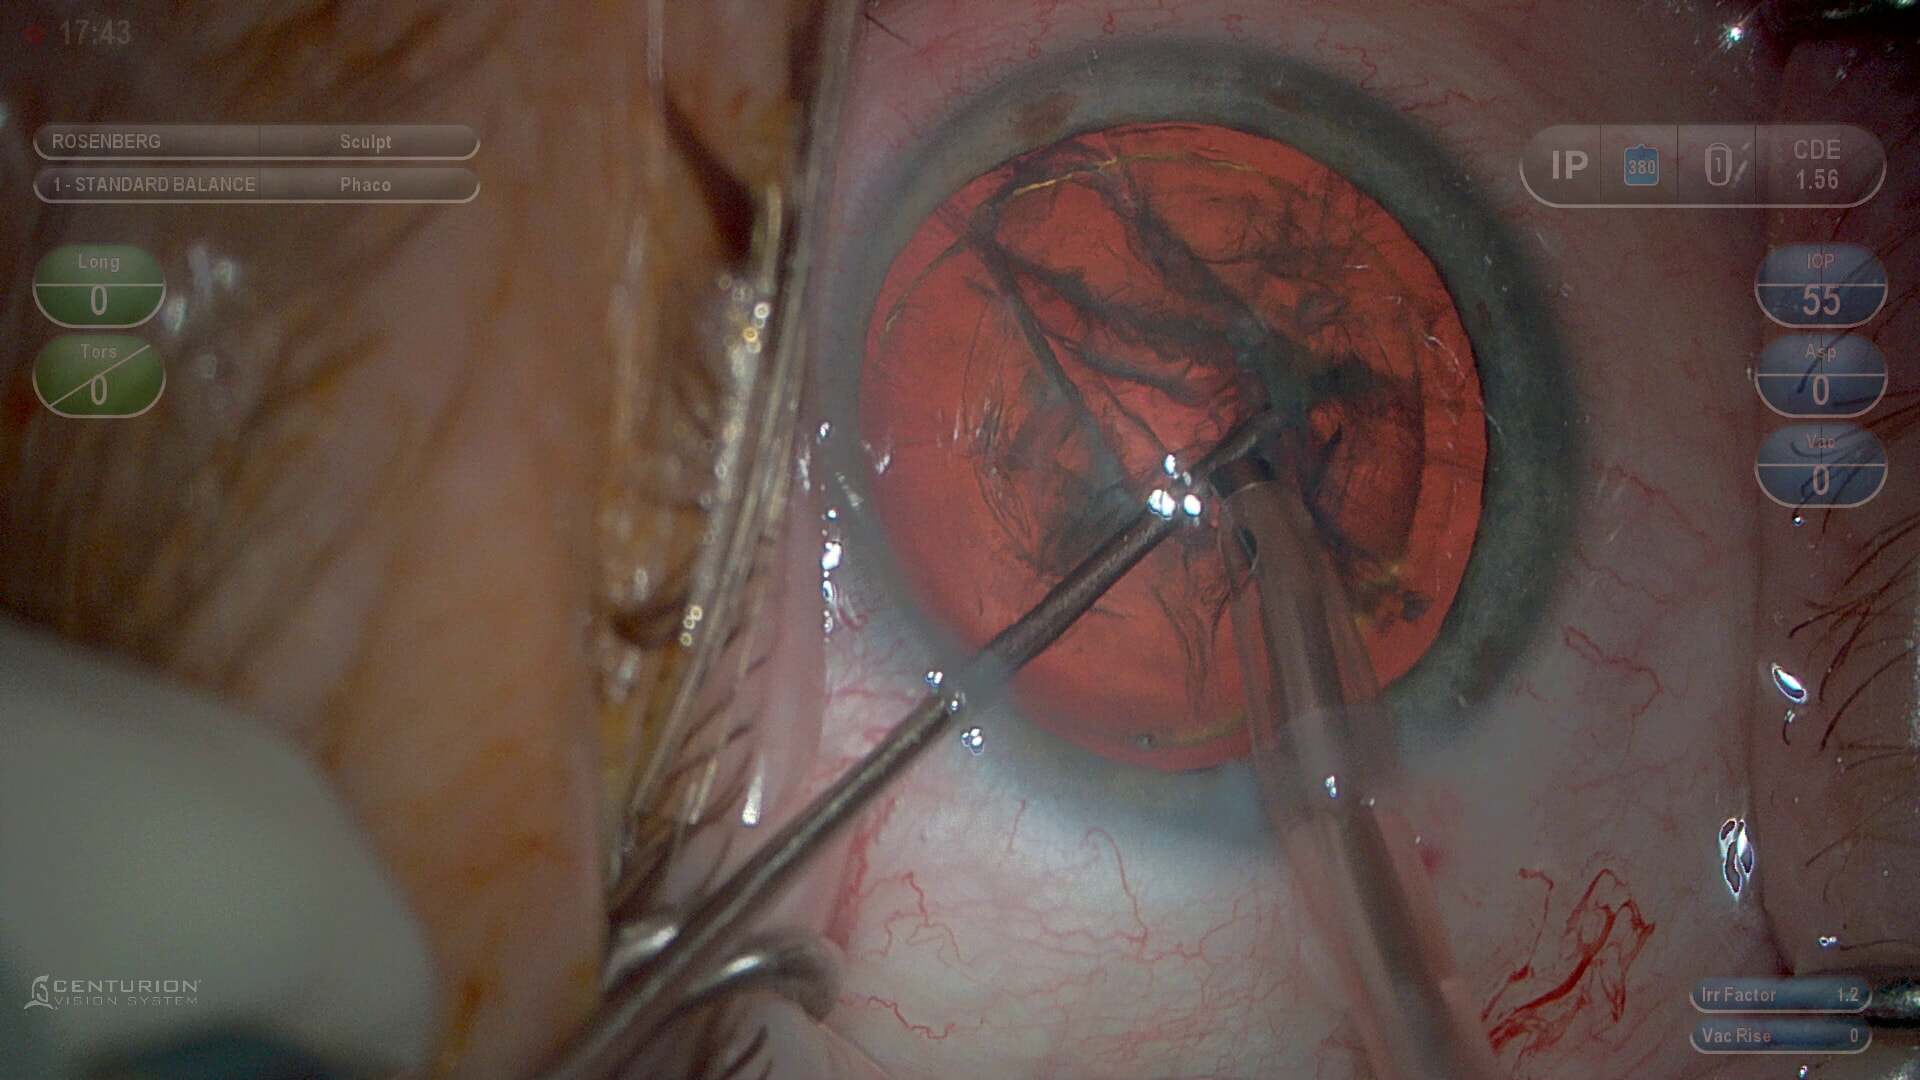iris: (827, 51, 1557, 844)
pupil: (860, 124, 1494, 767)
